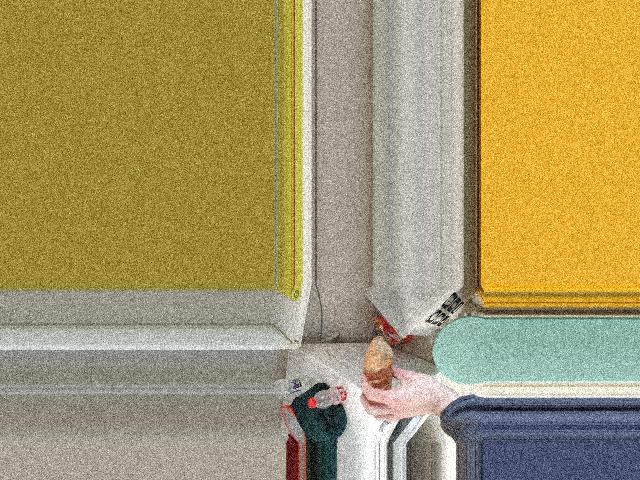sweet_potato: (363, 348, 392, 393)
